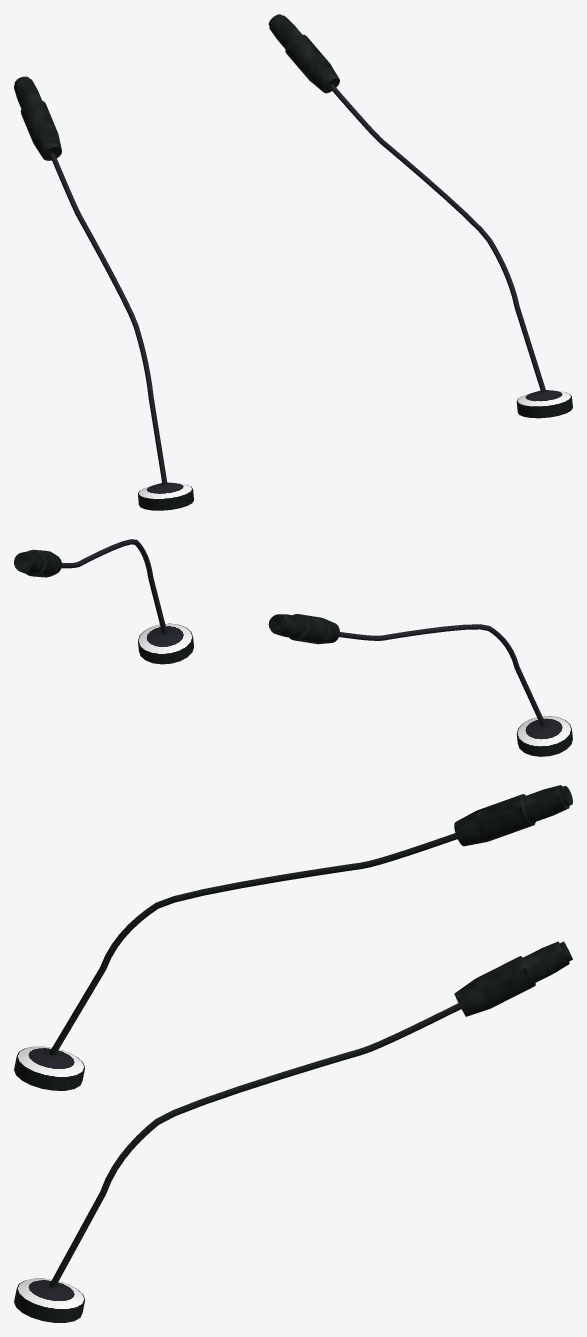
The model's file is BR_Microphone.glb.
3 renders of one model, top to bottom at view 1: azimuth 30°, elevation 25°; view 2: azimuth 150°, elevation 25°; view 3: azimuth 270°, elevation 25°, orthographic. The views are drawn at different scales.
Parts seen in each view (by area): view 1: microphone; view 2: microphone; view 3: microphone.
Boxes of the visible parts, left/top/right/bottom form: microphone: left=14, top=14, right=572, bottom=510; microphone: left=14, top=539, right=572, bottom=756; microphone: left=14, top=785, right=572, bottom=1322.
Bounding box in the file's own units: 0.1502 × 0.0892 × 0.1359.
Materials: 1 (1 with a texture image).
